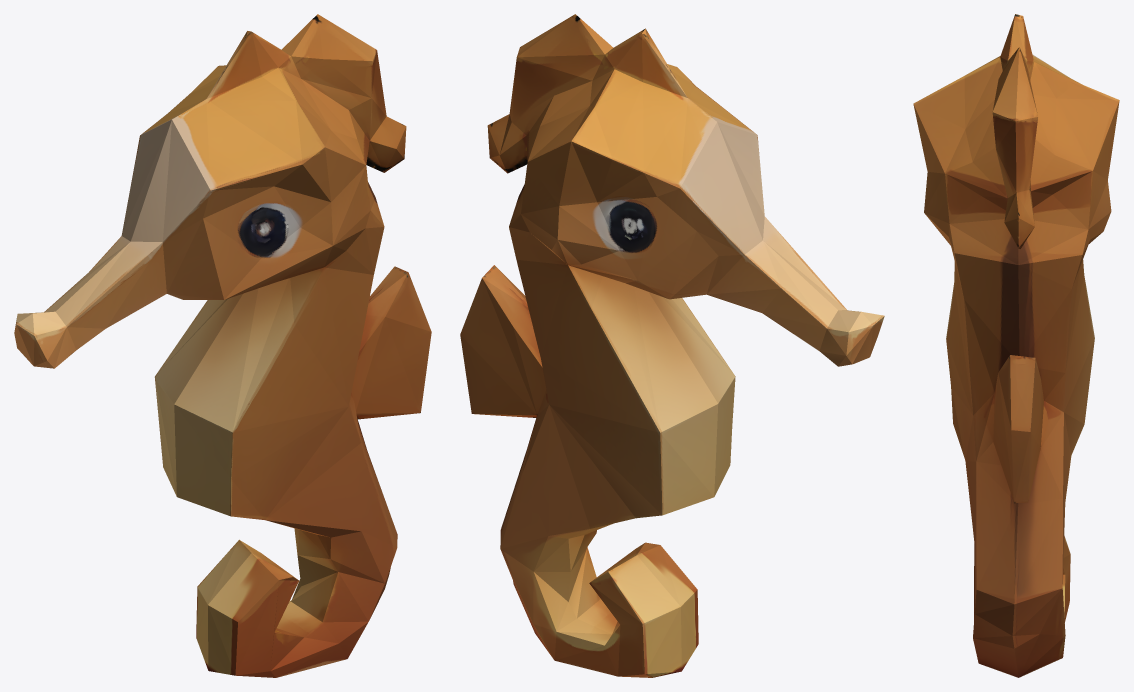
3 renders of one model, left to right at view 1: azimuth 30°, elevation 25°; view 2: azimuth 150°, elevation 25°; view 3: azimuth 270°, elevation 25°, orthographic. The views are drawn at different scales.
Visible parts, largest first — view 1: Figure; view 2: Figure; view 3: Figure.
Boxes of the visible parts, left/top/right/bottom form: Figure: left=14, top=14, right=431, bottom=677; Figure: left=460, top=14, right=884, bottom=677; Figure: left=913, top=14, right=1119, bottom=677.
Bounding box in the file's own units: 0.3452 × 0.5092 × 0.1553.
Materials: 1 (1 with a texture image).
